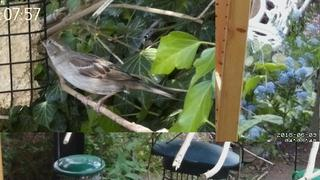sparrow: (40, 37, 175, 114)
